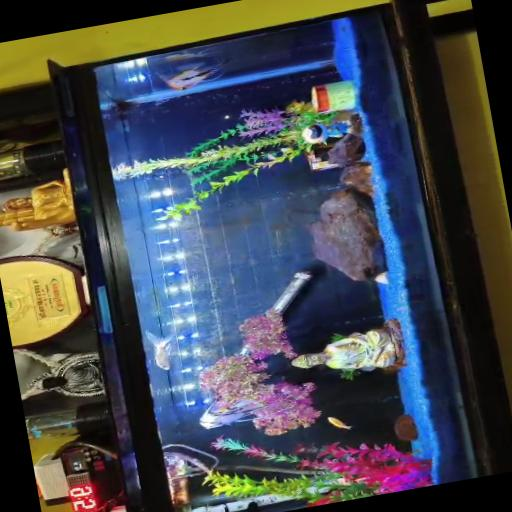Fish: (200, 400, 273, 429), (160, 62, 226, 90), (146, 331, 174, 370), (164, 48, 212, 62), (328, 417, 353, 429)
